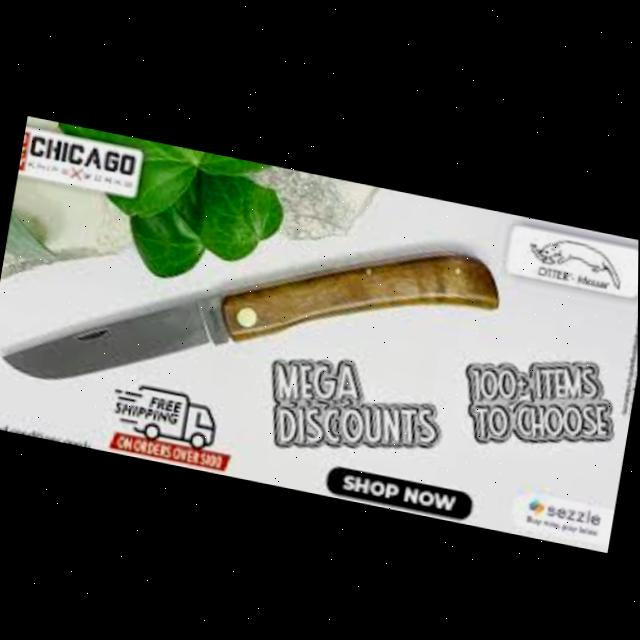knife: (0, 162, 507, 463)
